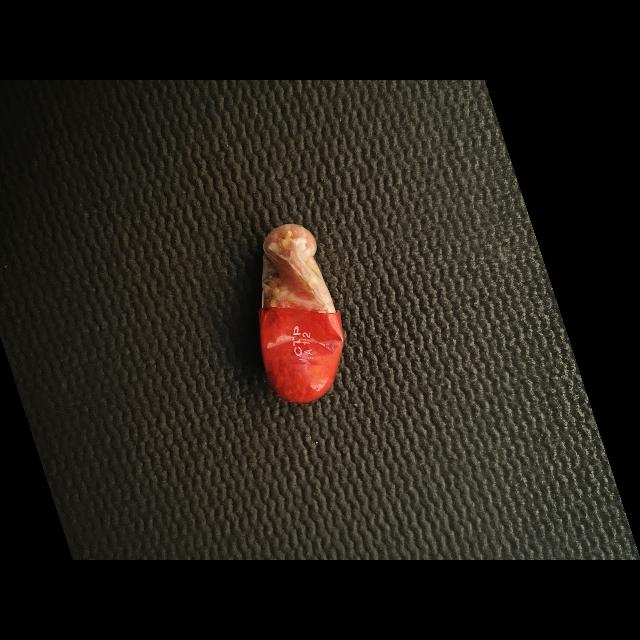Defective Capsule: (259, 224, 343, 403)
